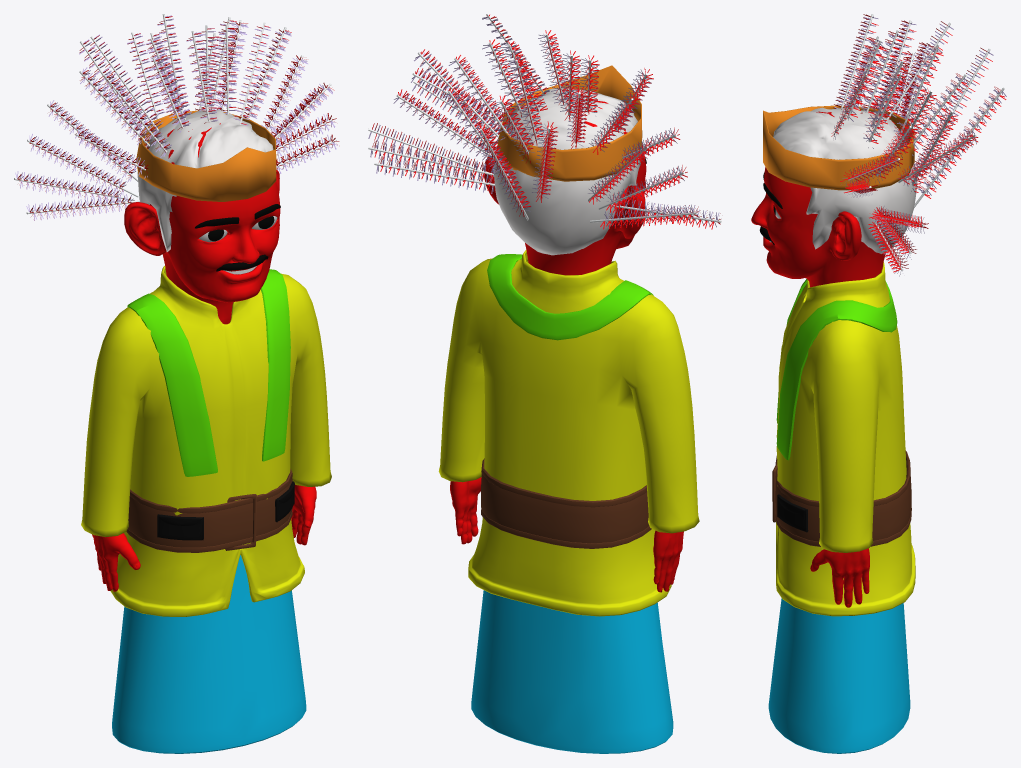
File: ondel-laki.glb
The picture shows the model from 3 angles, left to right: view 1: azimuth 30°, elevation 25°; view 2: azimuth 150°, elevation 25°; view 3: azimuth 270°, elevation 25°; orthographic projection. The views are drawn at different scales.
Parts seen in each view (by area): view 1: badan_Badan_0, Rambut_Wolf3D_Hair_0; view 2: badan_Badan_0, Rambut_Wolf3D_Hair_0; view 3: badan_Badan_0, Rambut_Wolf3D_Hair_0.
Part boxes in pixels (bbox=[...]): badan_Badan_0: bbox=[14, 14, 339, 753]; Rambut_Wolf3D_Hair_0: bbox=[137, 109, 273, 251]; badan_Badan_0: bbox=[368, 14, 721, 753]; Rambut_Wolf3D_Hair_0: bbox=[494, 88, 640, 255]; badan_Badan_0: bbox=[751, 14, 1006, 753]; Rambut_Wolf3D_Hair_0: bbox=[773, 106, 917, 253].
Bounding box in the file's own units: 4.95 × 9.86 × 3.4.
2 materials, 2 textured.
